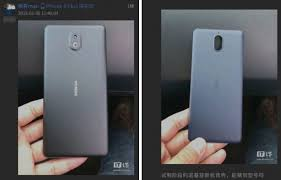nokia: (41, 23, 110, 158)
